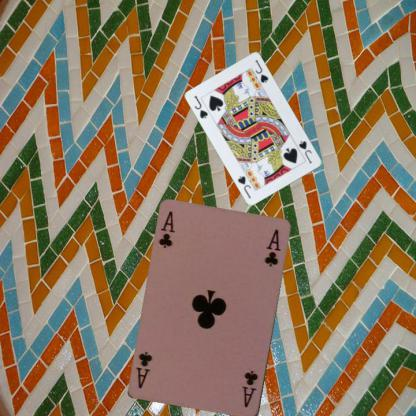Ac: (155, 209, 177, 250), (240, 368, 259, 409)
Js: (296, 138, 314, 165), (192, 93, 209, 120)
